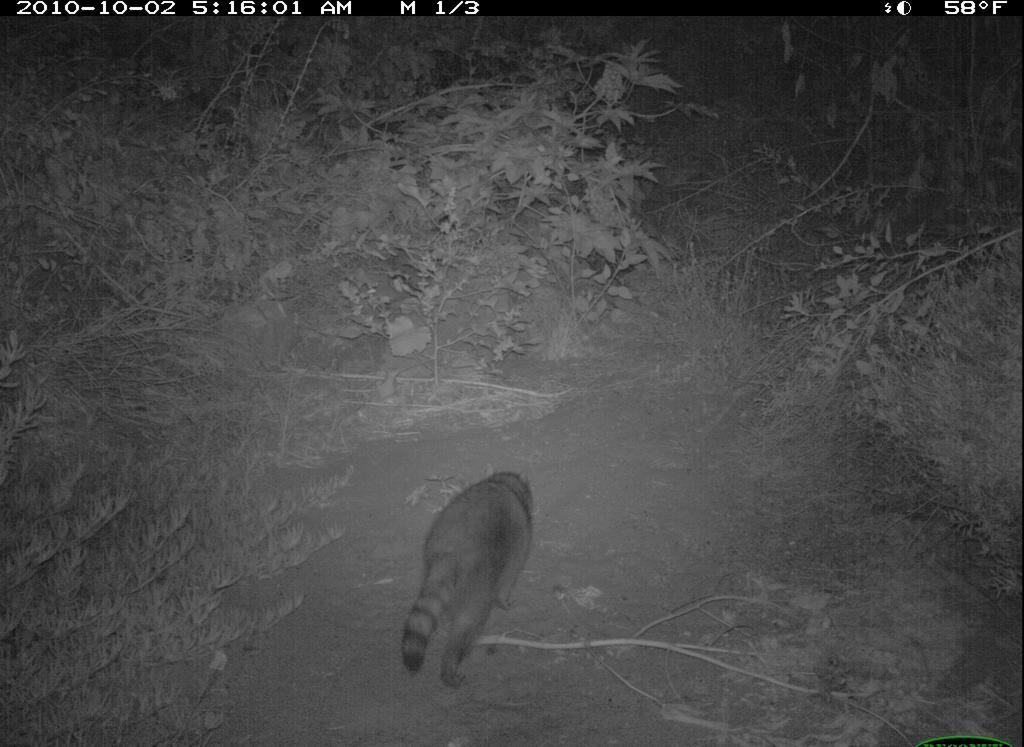raccoon: (387, 464, 548, 699)
